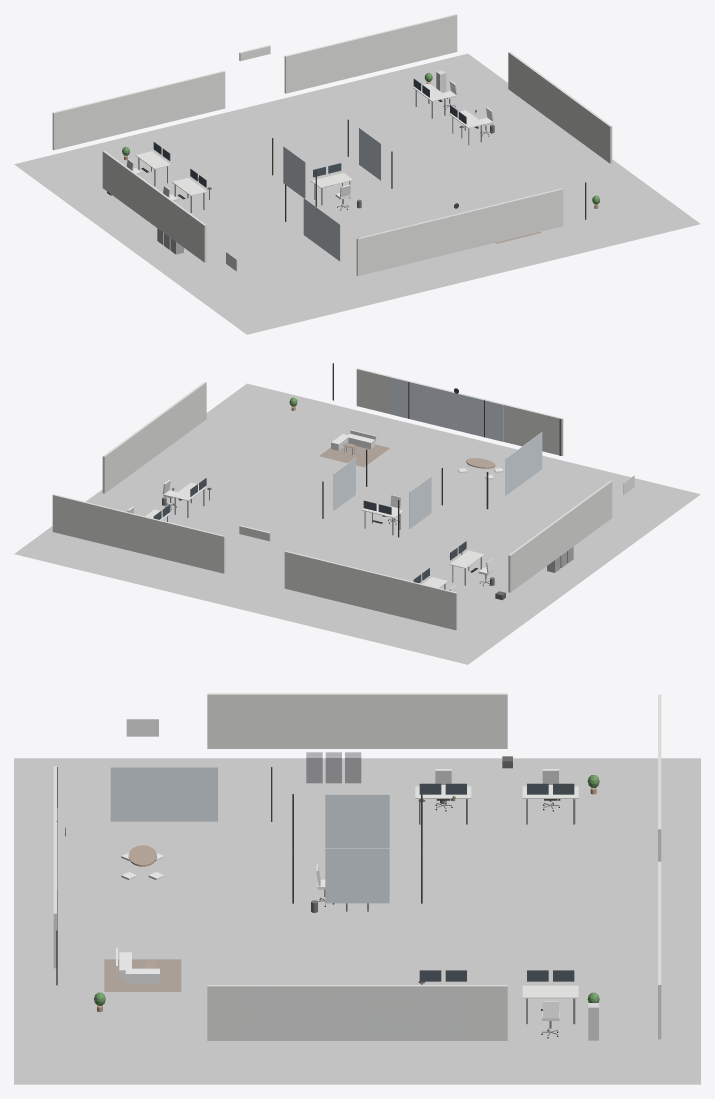
The model's file is office_v20.glb.
The picture shows the model from 3 angles, top to bottom: view 1: azimuth 30°, elevation 25°; view 2: azimuth 150°, elevation 25°; view 3: azimuth 270°, elevation 25°; orthographic projection. The views are drawn at different scales.
Visible parts, largest first — view 1: Plane, Cube, Cube.001, Cube.002, Cube.004, Cube.005, Cube.013, Cube.011, Cube.012; view 2: Plane, Cube.002, Cube.001, Cube.014, Cube.004, Cube.005, Cube, Cube.013, Cube.012, Cube.011, Plane.001; view 3: Plane, Cube.004, Cube.005, Cube.013, Cube.006, Cube.012, Cube.011, Plane.001, Cube, Cube.077, Cube.002.
Part boxes in pixels (bbox=[...]): Plane: bbox=[14, 53, 700, 334]; Cube: bbox=[356, 188, 563, 275]; Cube.001: bbox=[52, 71, 225, 150]; Cube.002: bbox=[284, 14, 457, 93]; Cube.004: bbox=[102, 150, 206, 262]; Cube.005: bbox=[508, 52, 612, 163]; Cube.013: bbox=[303, 198, 340, 261]; Cube.011: bbox=[283, 146, 305, 198]; Cube.012: bbox=[359, 127, 381, 180]; Plane: bbox=[14, 383, 700, 664]; Cube.002: bbox=[52, 494, 225, 573]; Cube.001: bbox=[284, 551, 457, 630]; Cube.014: bbox=[390, 377, 503, 441]; Cube.004: bbox=[508, 480, 612, 592]; Cube.005: bbox=[102, 382, 206, 493]; Cube: bbox=[356, 368, 563, 455]; Cube.013: bbox=[505, 432, 542, 495]; Cube.012: bbox=[333, 457, 355, 510]; Cube.011: bbox=[409, 476, 431, 528]; Plane.001: bbox=[319, 444, 389, 466]; Plane: bbox=[14, 758, 700, 1084]; Cube.004: bbox=[207, 693, 507, 748]; Cube.005: bbox=[207, 985, 507, 1040]; Cube.013: bbox=[110, 767, 217, 821]; Cube.006: bbox=[250, 989, 464, 1037]; Cube.012: bbox=[325, 848, 389, 903]; Cube.011: bbox=[325, 794, 389, 848]; Plane.001: bbox=[104, 959, 181, 991]; Cube: bbox=[53, 766, 56, 968]; Cube.077: bbox=[522, 985, 578, 998]; Cube.002: bbox=[658, 861, 661, 1039].
Bounding box in the file's own units: 18 × 2.65 × 16.
